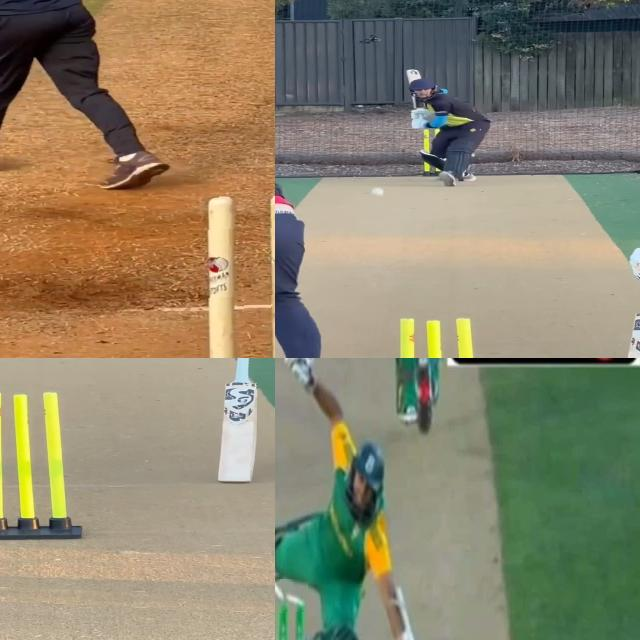Cricket ball: (369, 186, 387, 197)
Stumps: (0, 390, 86, 541), (204, 196, 275, 358), (383, 314, 497, 358), (419, 127, 450, 178)
